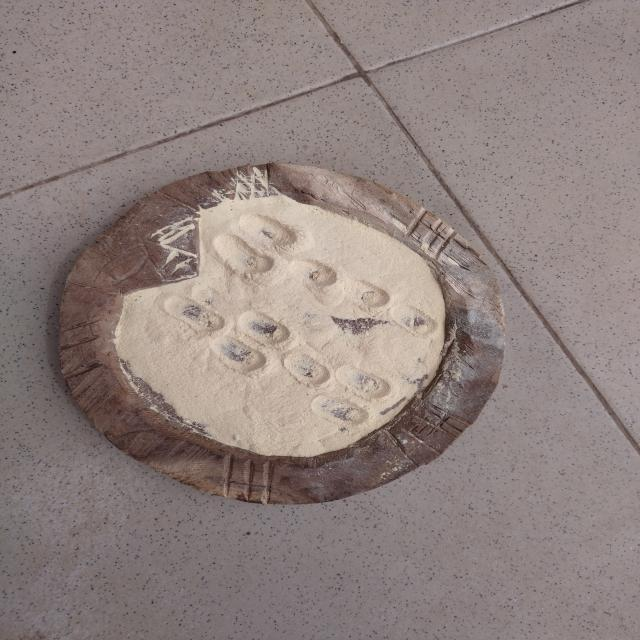double: (208, 212, 300, 276), (299, 371, 393, 424), (214, 309, 292, 372)
single: (154, 295, 230, 333), (276, 352, 333, 386), (287, 258, 342, 288), (389, 306, 439, 336), (344, 278, 392, 308)
